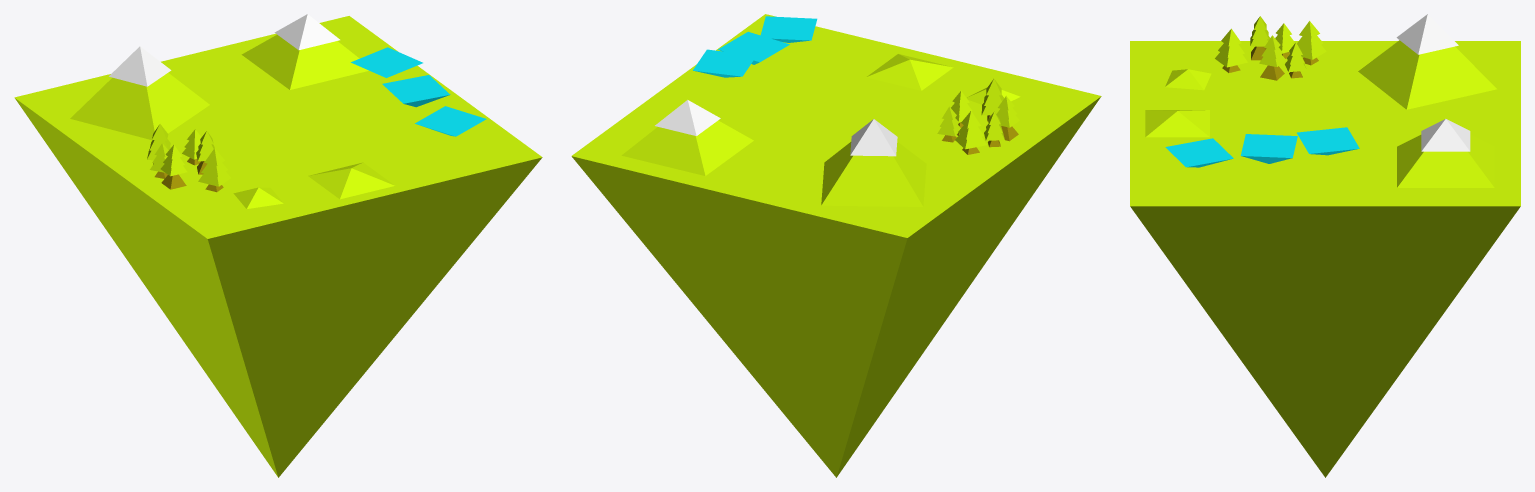
The model's file is pyra_world.fbx.
The picture shows the model from 3 angles, left to right: view 1: azimuth 30°, elevation 25°; view 2: azimuth 150°, elevation 25°; view 3: azimuth 270°, elevation 25°; orthographic projection.
Parts seen in each view (by area): view 1: world_core, hill4, hill5, hill2, hill3, hill7, hill1, hill6, hill8, tree7, tree4, hill; view 2: world_core, hill4, hill5, hill2, hill3, hill1, hill8, hill6, hill7, tree6, tree4, tree7; view 3: world_core, hill4, hill5, hill2, hill7, hill1, hill3, hill8, hill6, tree7, tree6, hill (+3 smaller).
Boxes of the visible parts, left/top/right/bottom form: world_core: left=14, top=16, right=542, bottom=477; hill4: left=70, top=73, right=209, bottom=140; hill5: left=241, top=34, right=368, bottom=89; hill2: left=308, top=162, right=394, bottom=199; hill3: left=109, top=46, right=171, bottom=86; hill7: left=382, top=75, right=450, bottom=107; hill1: left=274, top=14, right=339, bottom=49; hill6: left=415, top=106, right=486, bottom=136; hill8: left=351, top=47, right=422, bottom=77; tree7: left=198, top=148, right=230, bottom=192; tree4: left=160, top=145, right=187, bottom=189; hill: left=233, top=187, right=283, bottom=208; world_core: left=571, top=14, right=1101, bottom=477; hill4: left=821, top=142, right=926, bottom=206; hill5: left=621, top=120, right=753, bottom=175; hill2: left=866, top=54, right=953, bottom=90; hill3: left=850, top=119, right=897, bottom=156; hill1: left=655, top=100, right=720, bottom=135; hill8: left=693, top=49, right=756, bottom=77; hill6: left=760, top=16, right=817, bottom=42; hill7: left=718, top=31, right=789, bottom=64; tree6: left=955, top=111, right=986, bottom=154; tree4: left=996, top=96, right=1019, bottom=141; tree7: left=981, top=79, right=1003, bottom=121; world_core: left=1130, top=41, right=1520, bottom=477; hill4: left=1358, top=40, right=1496, bottom=109; hill5: left=1397, top=134, right=1494, bottom=187; hill2: left=1145, top=110, right=1209, bottom=137; hill7: left=1240, top=134, right=1297, bottom=163; hill1: left=1421, top=119, right=1470, bottom=151; hill3: left=1396, top=14, right=1458, bottom=54; hill8: left=1297, top=127, right=1359, bottom=155; hill6: left=1165, top=138, right=1233, bottom=167; tree7: left=1215, top=28, right=1247, bottom=72; tree6: left=1297, top=21, right=1326, bottom=65; hill: left=1165, top=69, right=1211, bottom=90.
Size of the model in its own units: 10.22 by 12.14 by 10.22.
